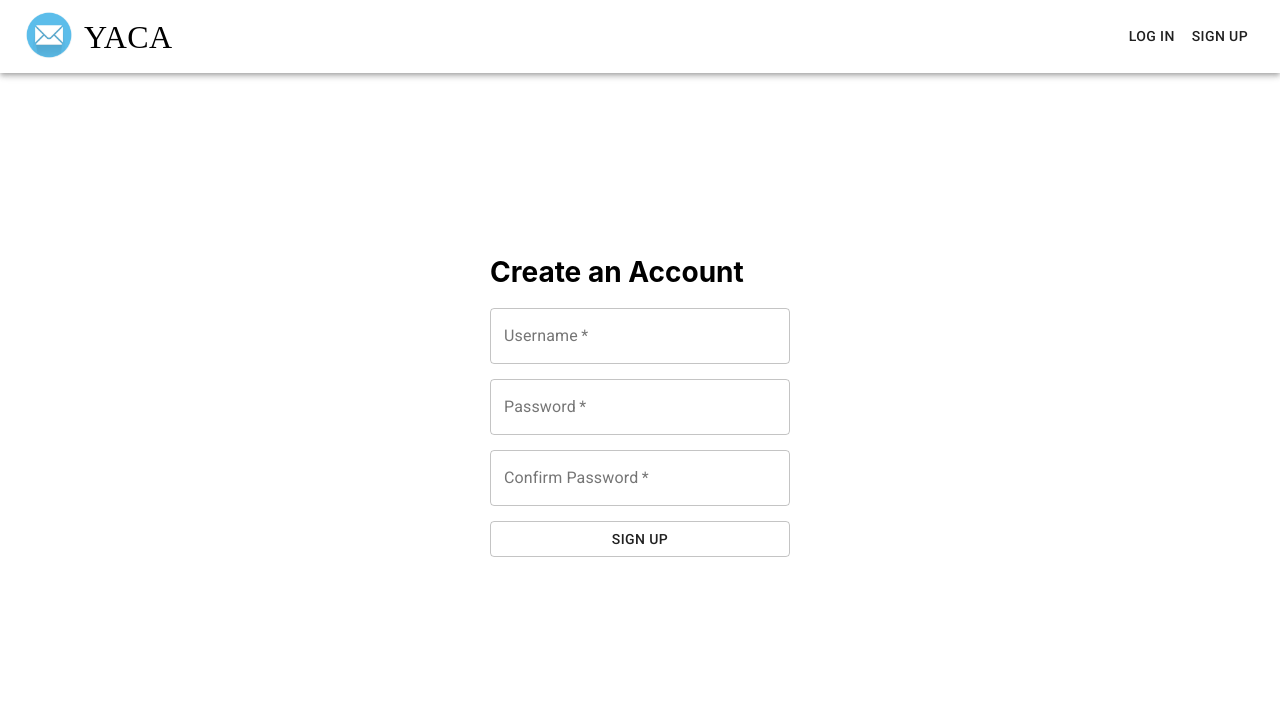
Test case: CreateAccountPage component after each input › should return The username cannot contain any spaces. when username = test user
Type "test user" into the field with test id "create-page-username-input" at (640, 336), box x1=490 y1=308 x2=790 y2=364
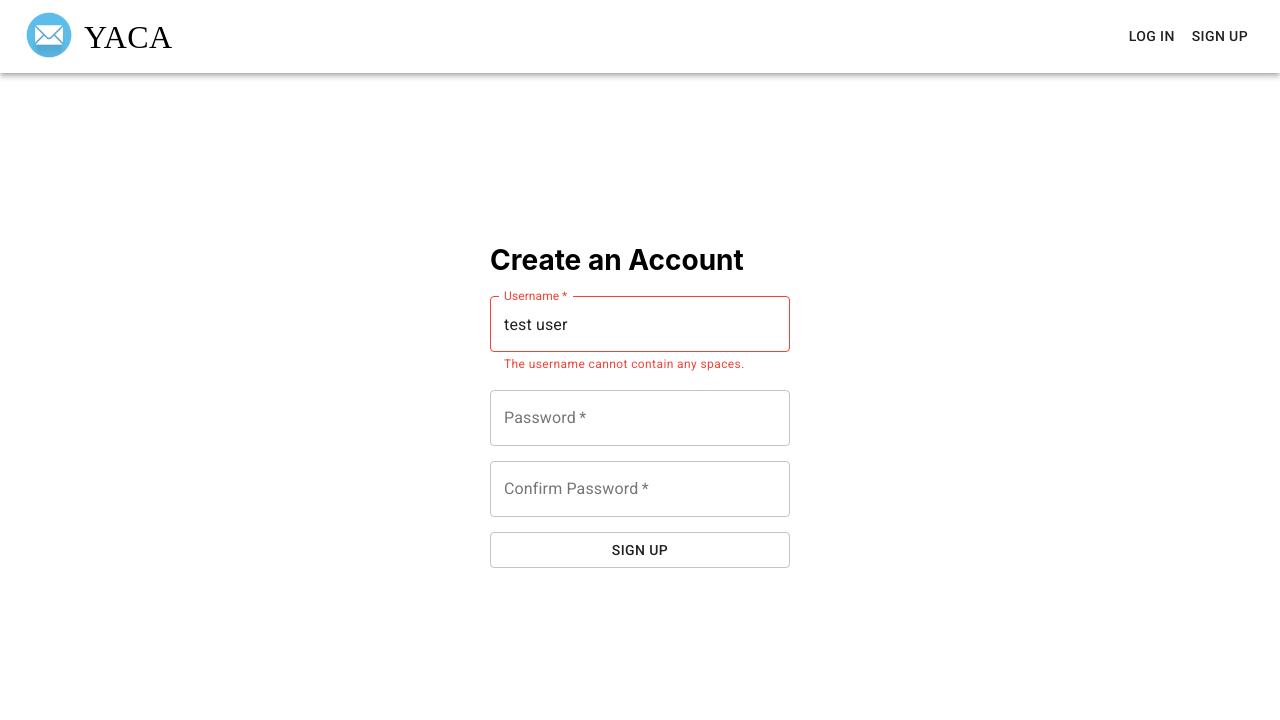
Result: the text with test id "create-page-username-helper" reads "The username cannot contain any spaces." at x1=504 y1=357 x2=745 y2=371
